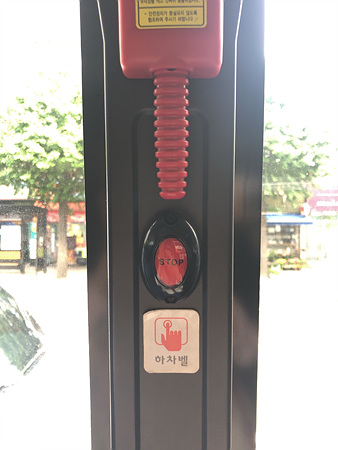bell: (139, 210, 202, 304)
